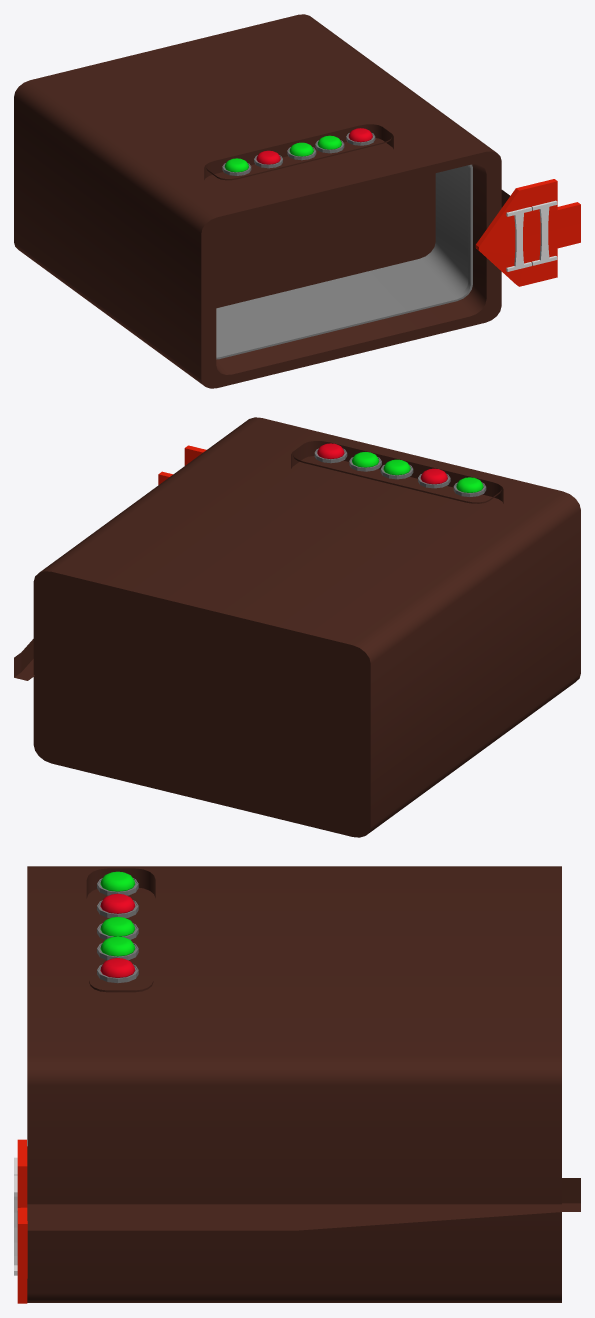
Rendered from slot2.fbx.
The picture shows the model from 3 angles, top to bottom: view 1: azimuth 30°, elevation 25°; view 2: azimuth 150°, elevation 25°; view 3: azimuth 270°, elevation 25°; orthographic projection. The views are drawn at different scales.
Visible parts, largest first — view 1: Slot2; view 2: Slot2; view 3: Slot2.
Part boxes in pixels (x1,y1,x2,y2): Slot2: (14, 14, 580, 388); Slot2: (14, 417, 580, 837); Slot2: (14, 866, 580, 1303).
Size of the model in its own units: 381 by 185 by 348.
